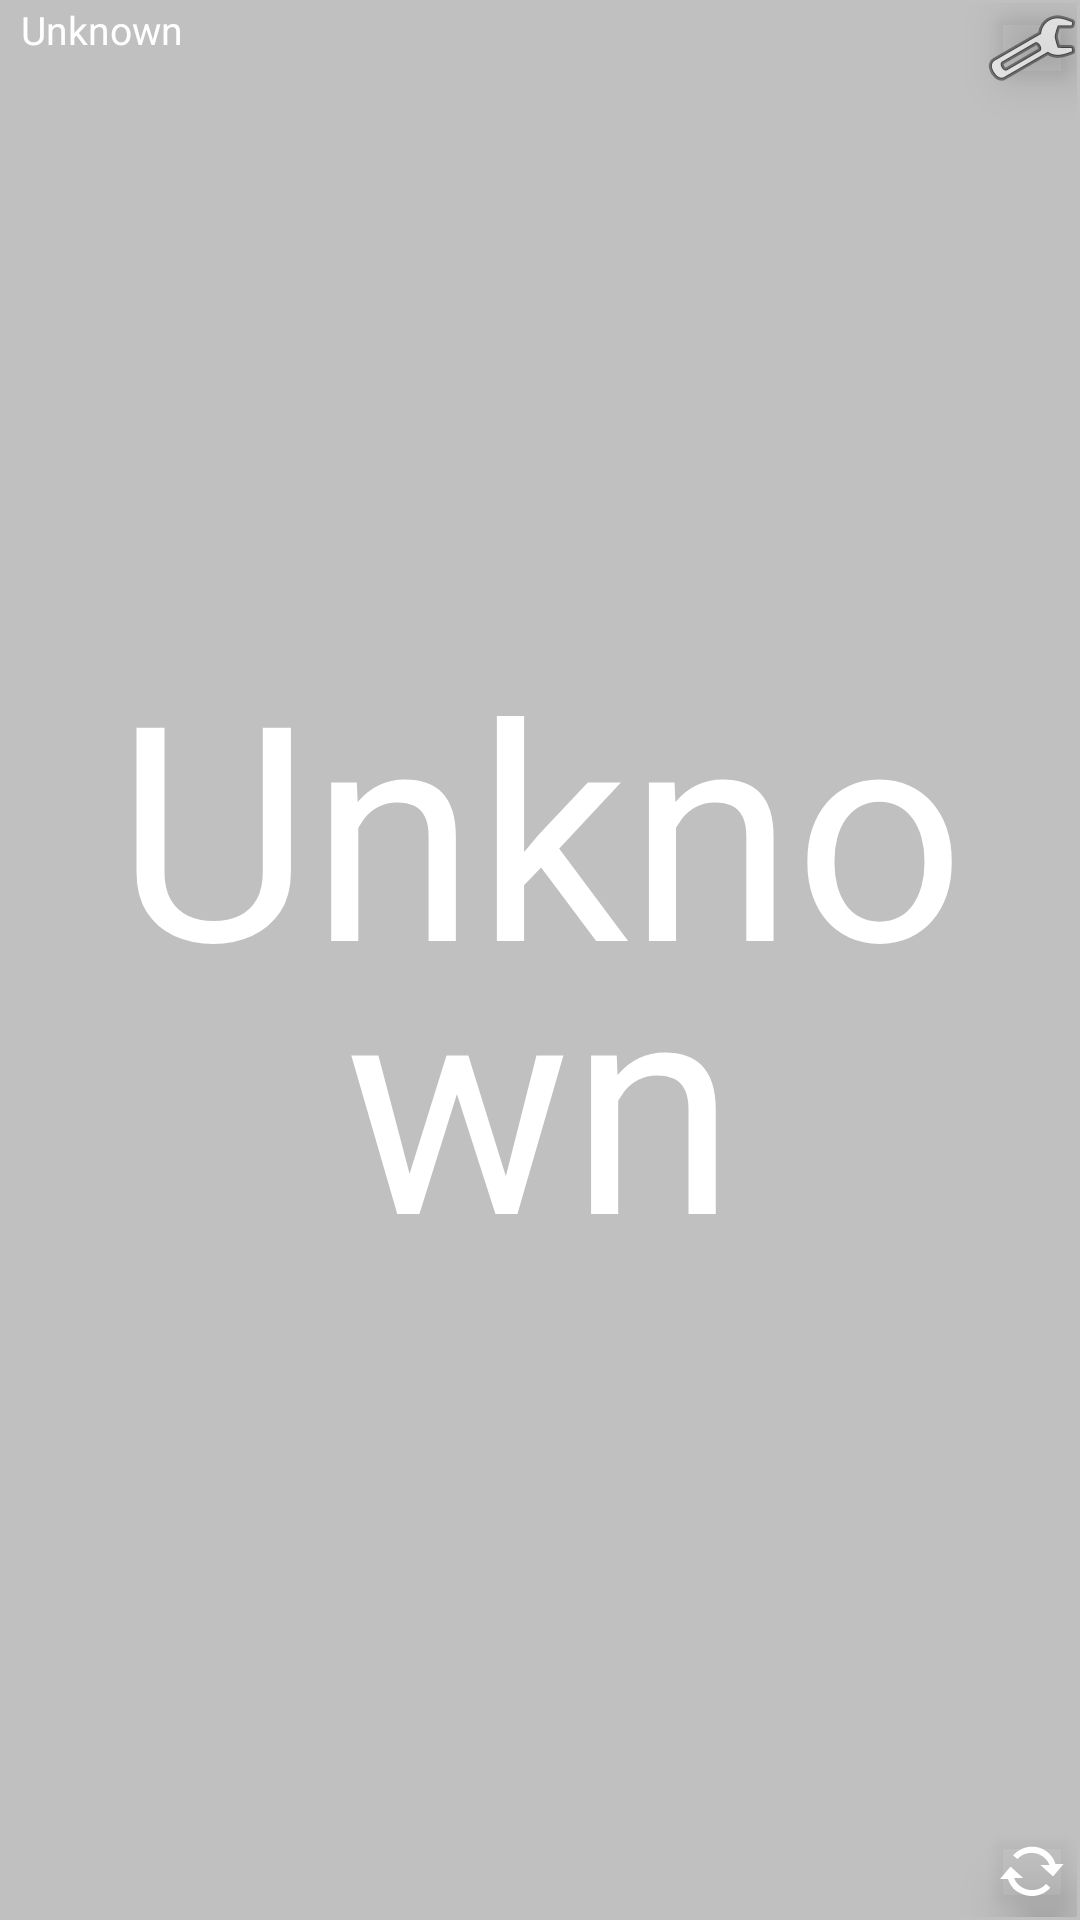

Screen size 1080px x 1920px. Icon name, then its box in pixels as (x1, y1, x2, y2):
Configure: (988, 15, 1077, 81)
Refresh: (1000, 1847, 1063, 1896)
